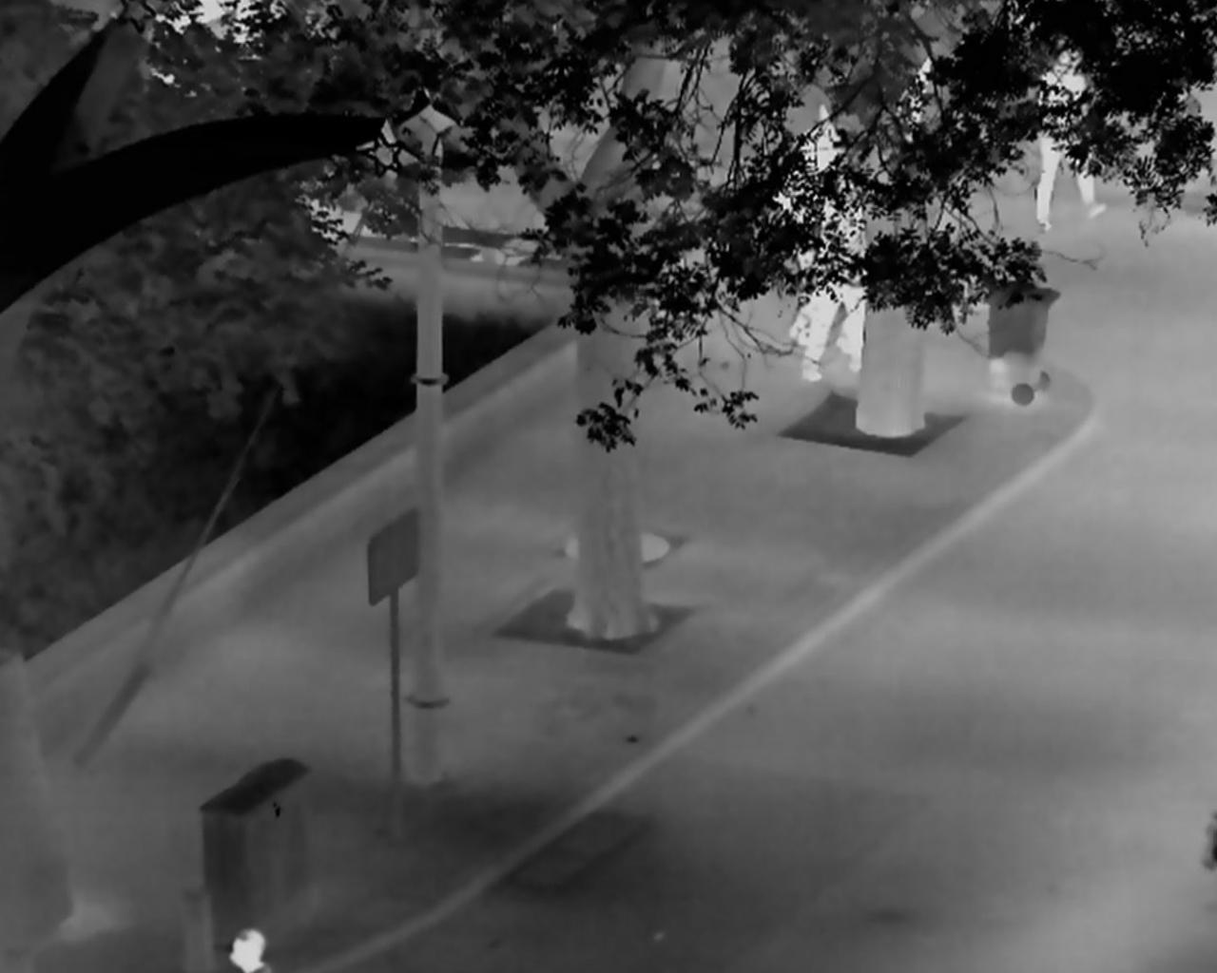person: (1037, 46, 1107, 230), (804, 178, 865, 377), (791, 182, 853, 346), (794, 104, 847, 177), (230, 927, 272, 973)
